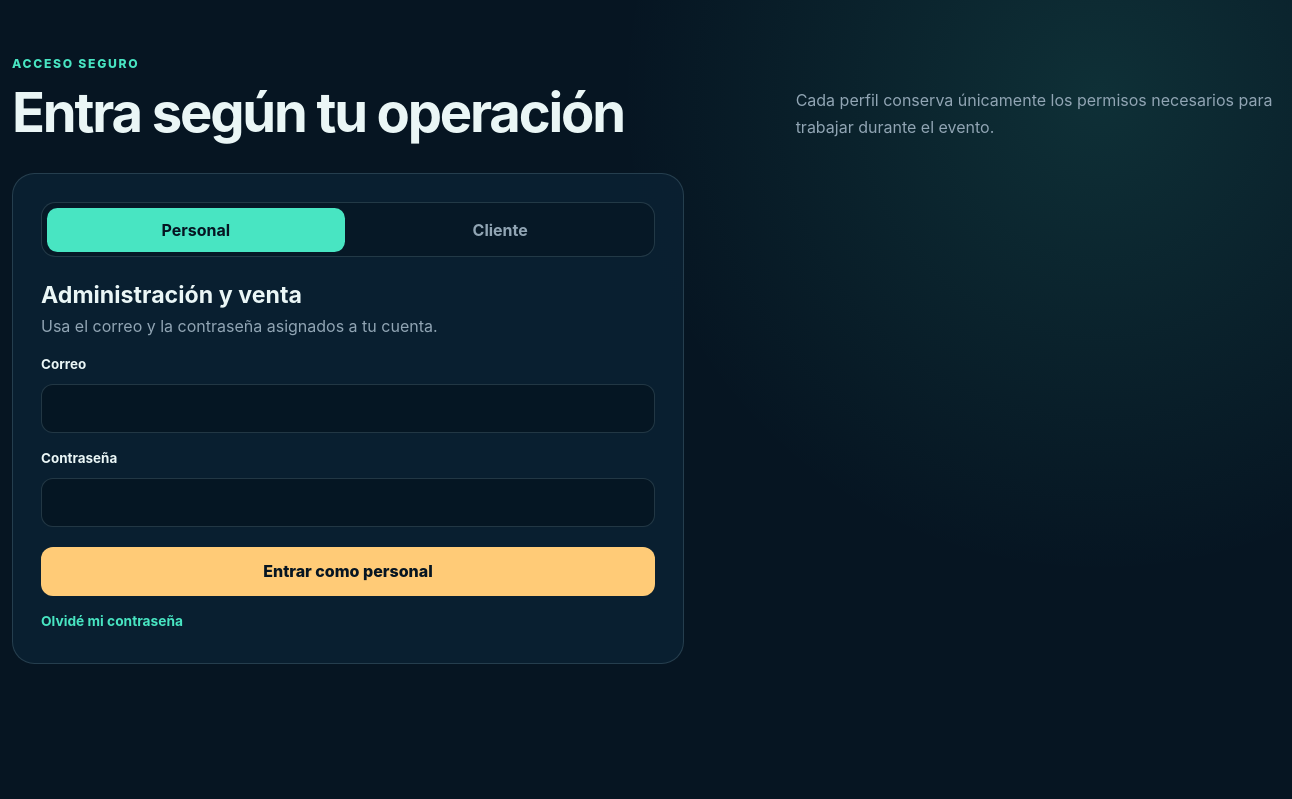
Test: AccessPortal › autentica al personal y presenta su identidad autorizada
Step 1. Type "Admin@Tisa.mx" into the field labelled "Correo" → (348, 408), box [41,384,655,433]
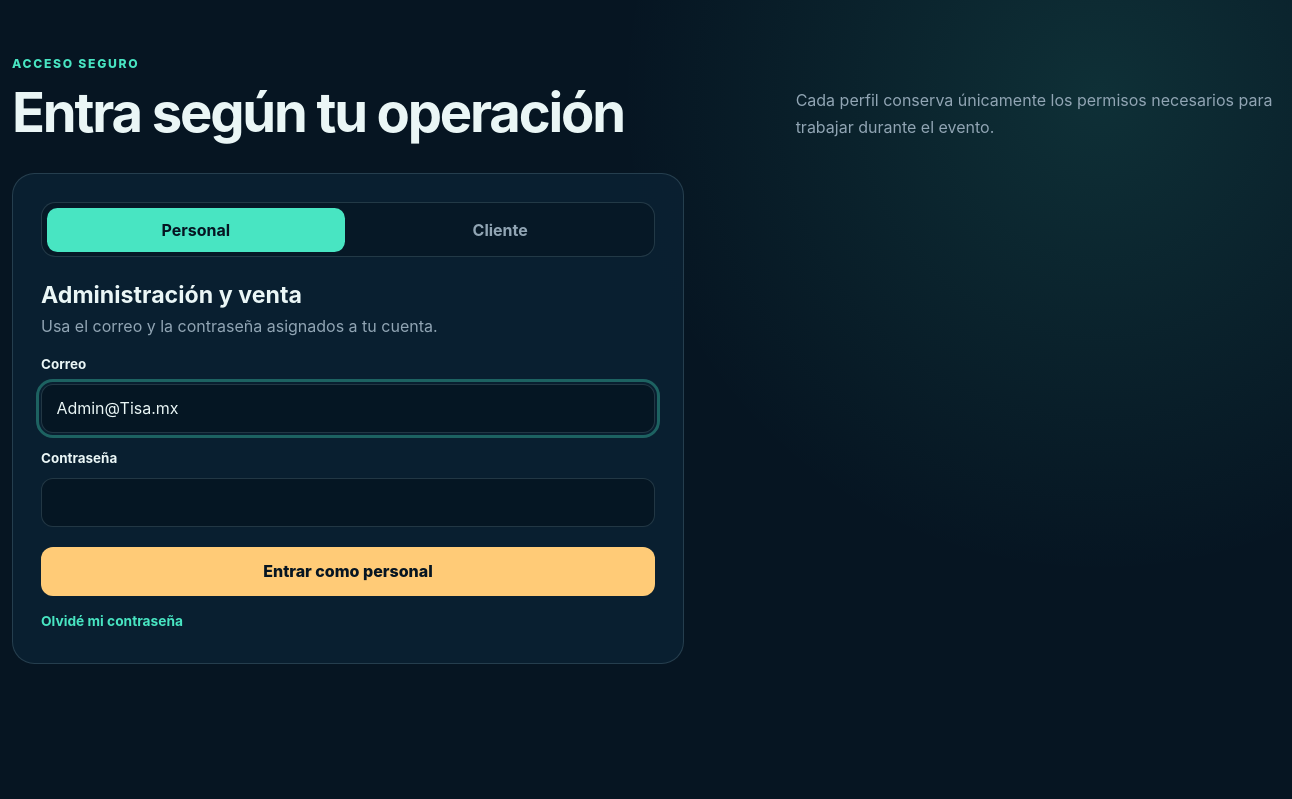
Step 2. Type "segura123" into the password field labelled "Contraseña" → (348, 502), box [41,478,655,527]
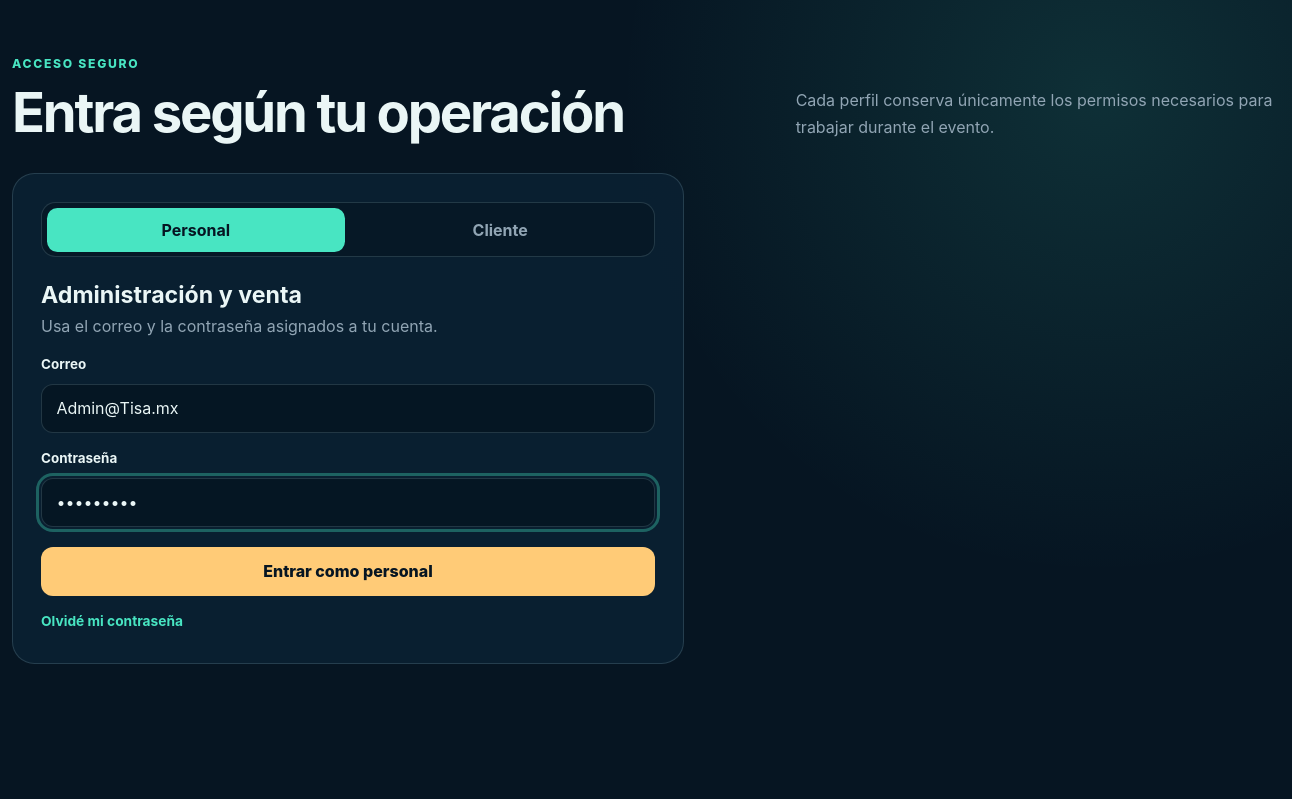
Step 3. Click the button "Entrar como personal" → (348, 571), box [41,547,655,596]
(page scrolled)
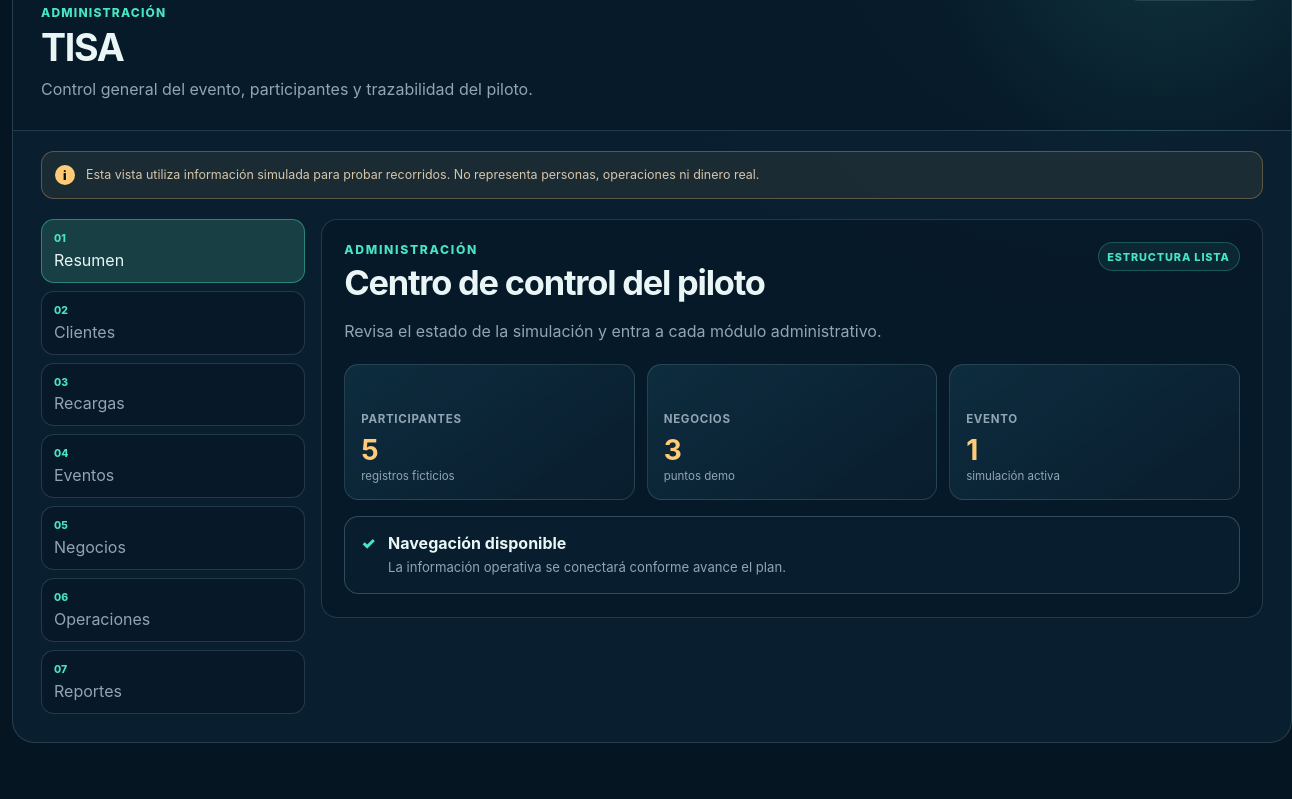
Expected: the heading "TISA" is shown, [41,25,124,70]
Expected: the navigation bar named "Navegación de Administración" is shown, [41,219,305,714]
